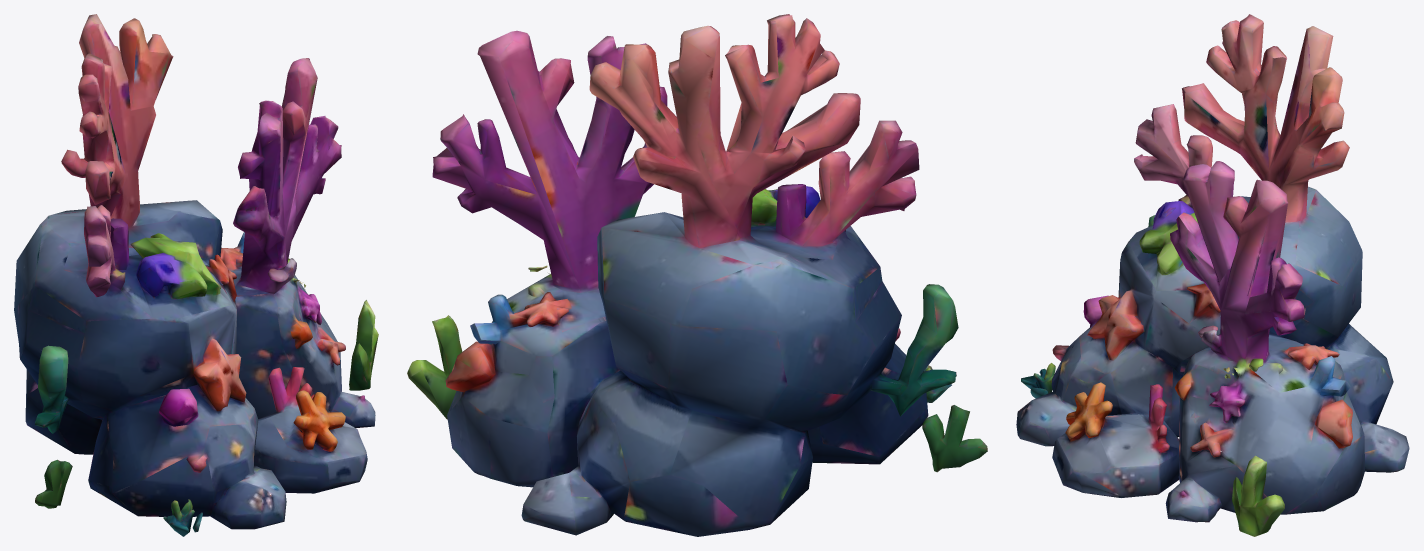
File: coralreef.glb
3 views of the same model, side by side, from view 1: azimuth 30°, elevation 25°; view 2: azimuth 150°, elevation 25°; view 3: azimuth 270°, elevation 25° (orthographic). The views are drawn at different scales.
Visible parts, largest first — view 1: tripo_node_f5ef94ad; view 2: tripo_node_f5ef94ad; view 3: tripo_node_f5ef94ad.
Part boxes in pixels (x1,y1,x2,y2): tripo_node_f5ef94ad: (14,14,378,536); tripo_node_f5ef94ad: (407,14,987,536); tripo_node_f5ef94ad: (1016,14,1409,536).
Size of the model in its own units: 99 by 92.93 by 84.18.
1 material, 1 textured.
